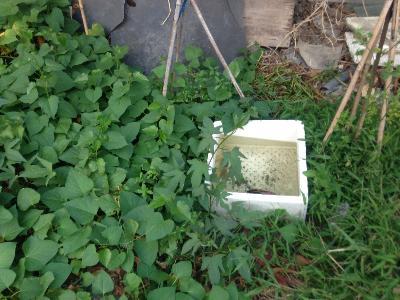styrofoam: (208, 117, 308, 228)
